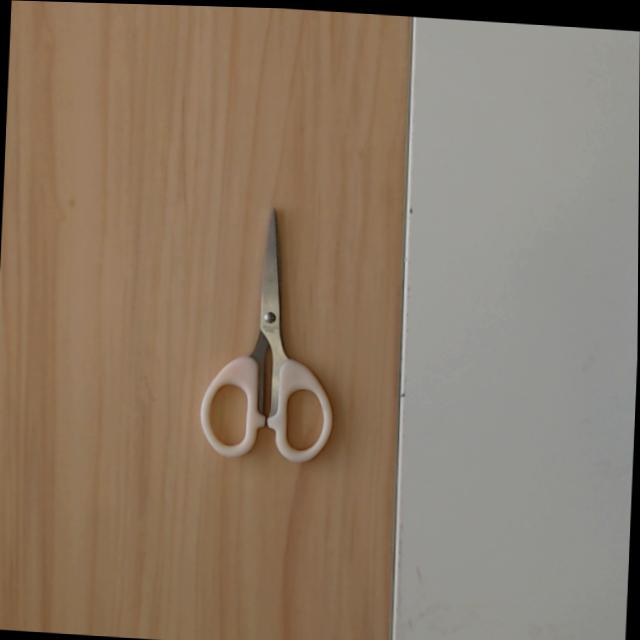Gunting: (151, 212, 343, 485)
